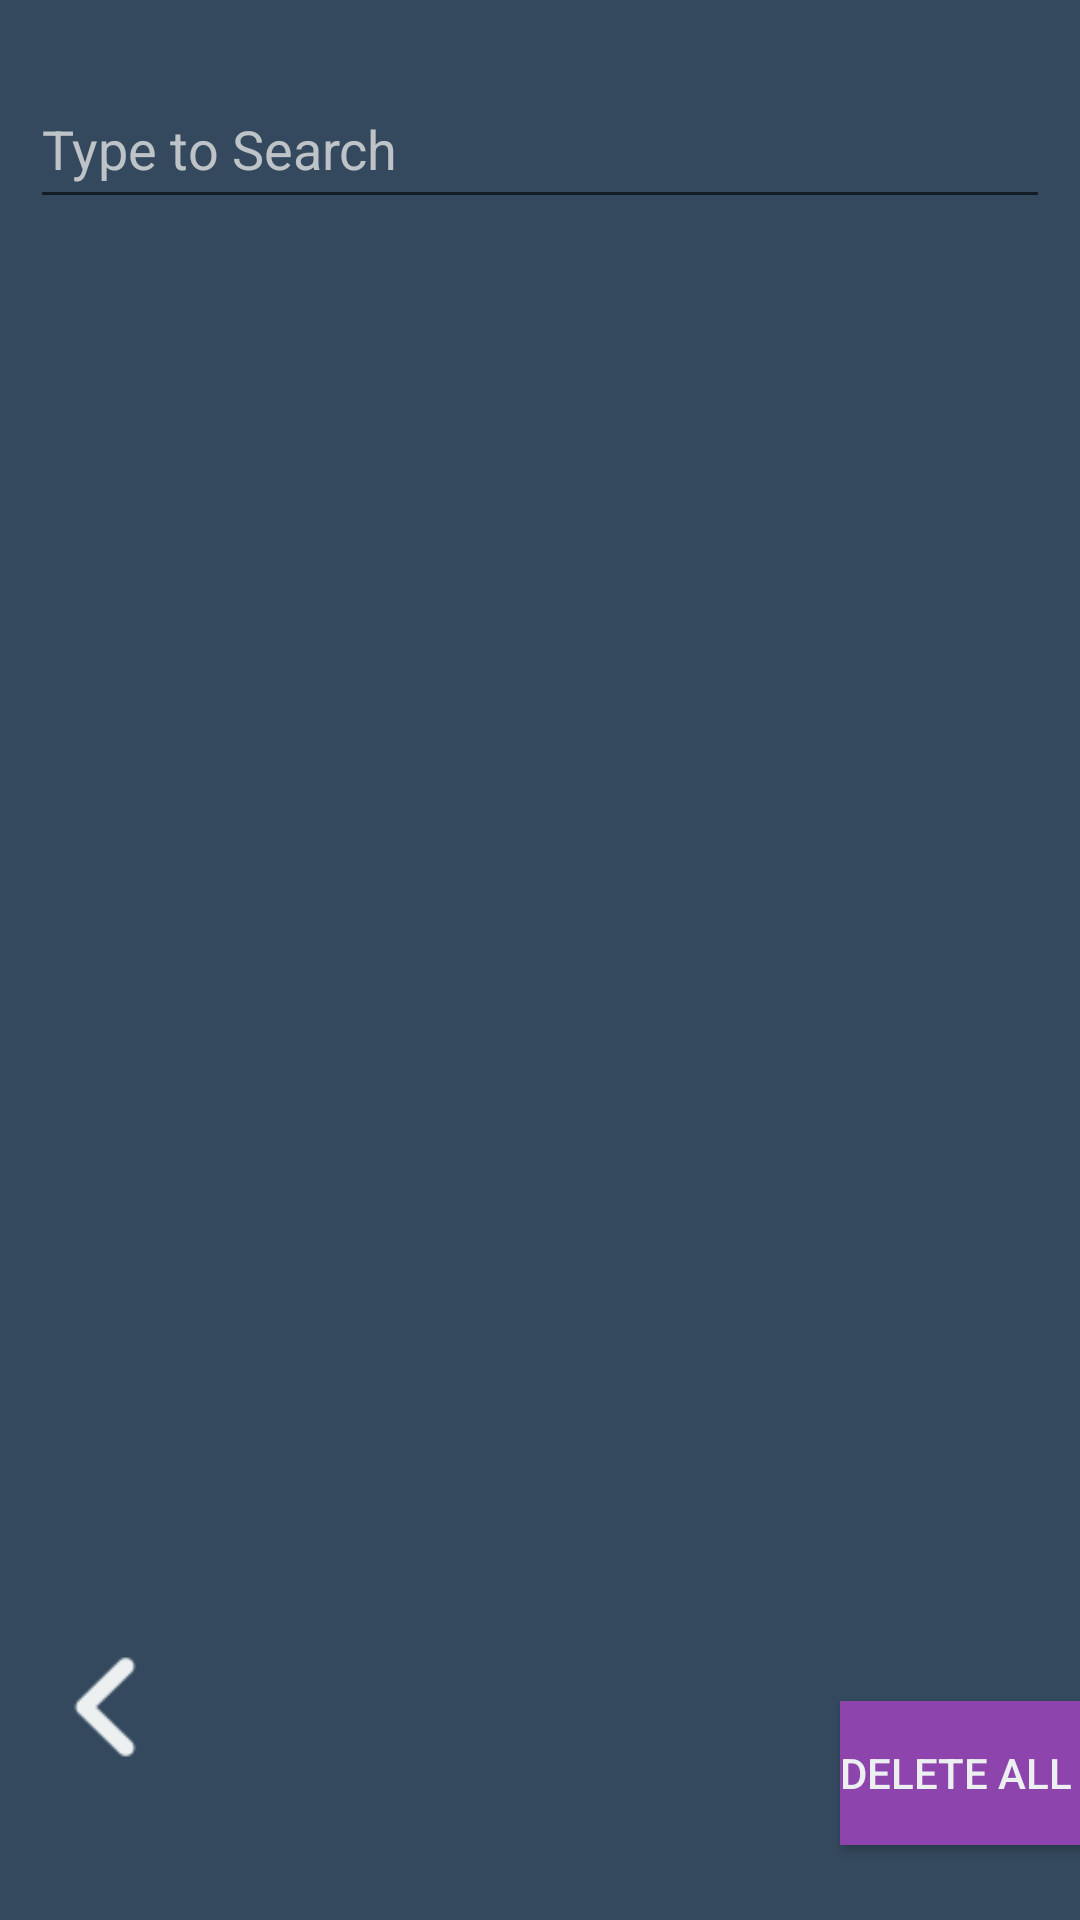

Icon click points for this 1080px×1920px phone screenshot, format point (x, y):
back: point (105, 1707)
